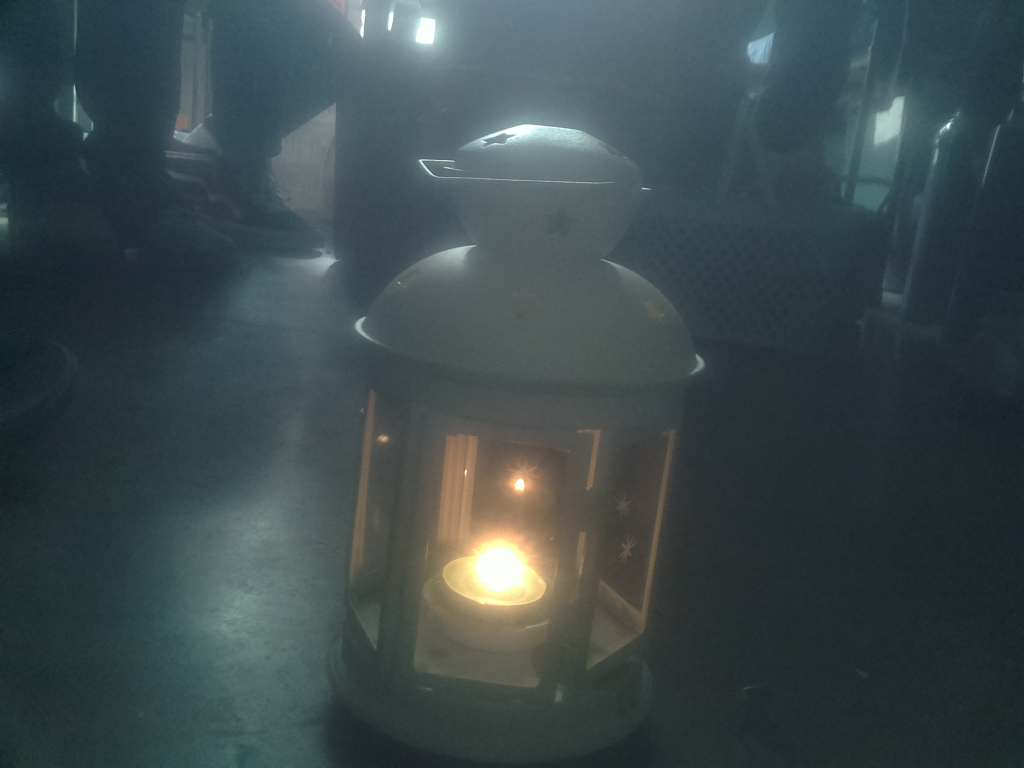fire: (423, 525, 566, 658)
